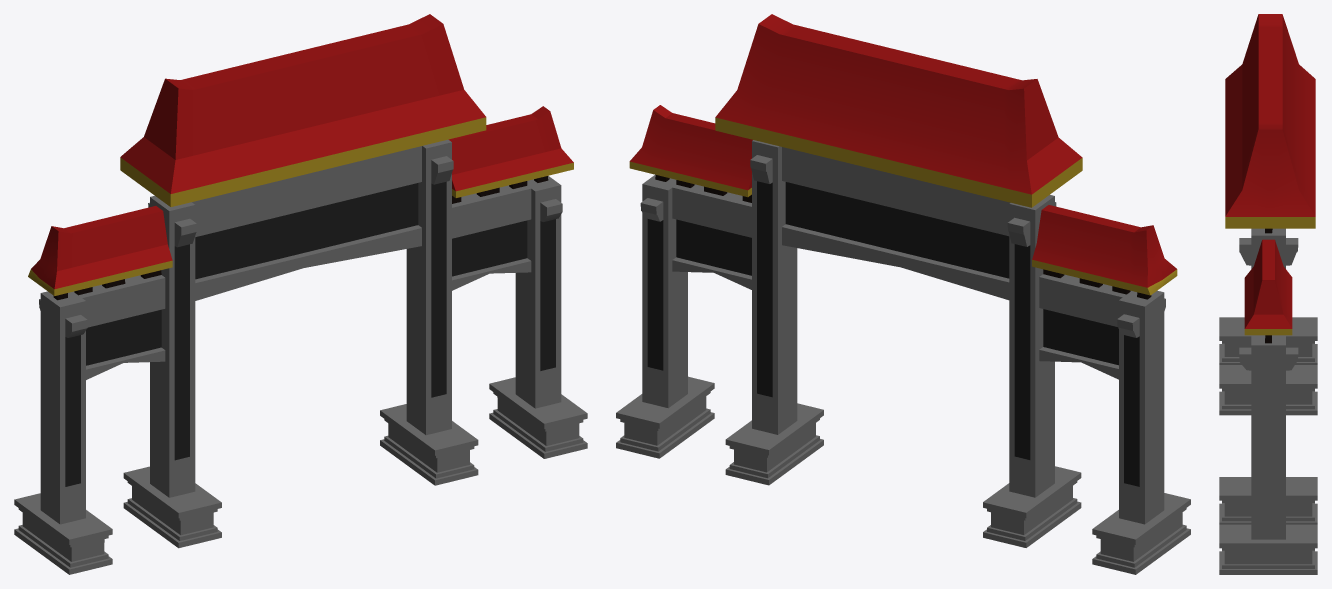
File: ChinatownGate_M_v1_Carrie.FBX
3 renders of one model, left to right at view 1: azimuth 30°, elevation 25°; view 2: azimuth 150°, elevation 25°; view 3: azimuth 270°, elevation 25°, orthographic. The views are drawn at different scales.
Parts seen in each view (by area): view 1: chinatowngate; view 2: chinatowngate; view 3: chinatowngate.
Part boxes in pixels (<box>): chinatowngate: <box>14,14,587,574</box>; chinatowngate: <box>616,14,1190,574</box>; chinatowngate: <box>1219,14,1317,574</box>.
Size of the model in its own units: 2299 by 1855 by 421.
